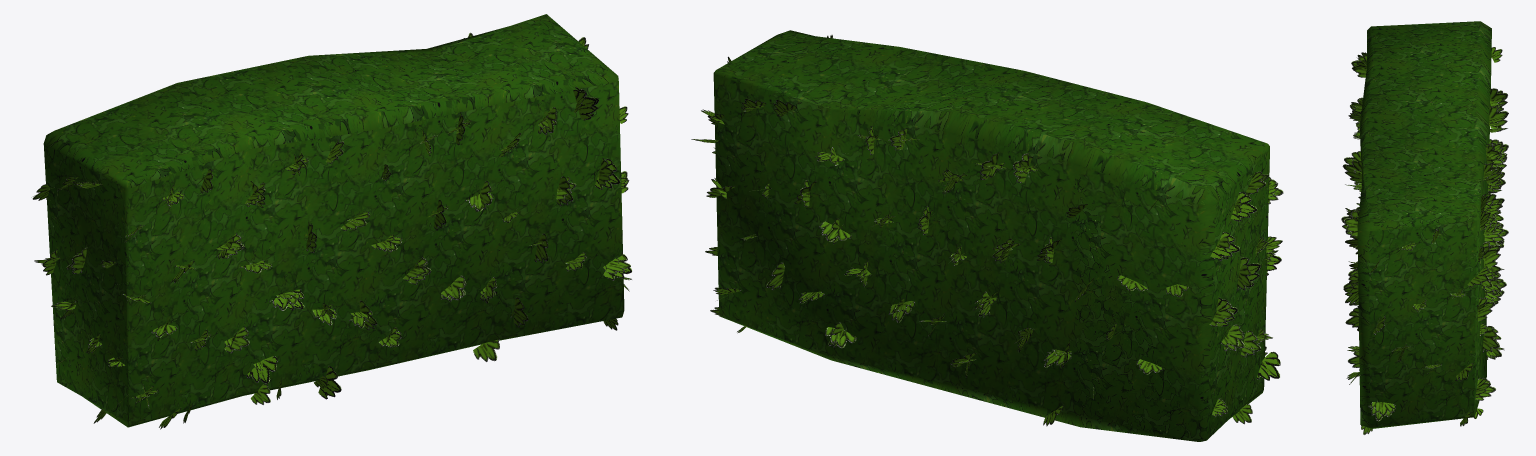
Rendered from SM_Hedge_2.fbx.
3 renders of one model, left to right at view 1: azimuth 30°, elevation 25°; view 2: azimuth 150°, elevation 25°; view 3: azimuth 270°, elevation 25°, orthographic. The views are drawn at different scales.
Parts seen in each view (by area): view 1: SM_Hedge_2; view 2: SM_Hedge_2; view 3: SM_Hedge_2, SM_Hedge_2|Plane|Dupli|121, SM_Hedge_2|Plane|Dupli|192, SM_Hedge_2|Plane|Dupli|233, SM_Hedge_2|Plane|Dupli|128, SM_Hedge_2|Plane|Dupli|127, SM_Hedge_2|Plane|Dupli|100, SM_Hedge_2|Plane|Dupli|83, SM_Hedge_2|Plane|Dupli|251, SM_Hedge_2|Plane|Dupli|203.
Part boxes in pixels (x1,y1,x2,y2): SM_Hedge_2: (43, 14, 624, 427); SM_Hedge_2: (713, 30, 1269, 441); SM_Hedge_2: (1357, 21, 1491, 428); SM_Hedge_2|Plane|Dupli|121: (1482, 326, 1499, 352); SM_Hedge_2|Plane|Dupli|192: (1489, 106, 1508, 132); SM_Hedge_2|Plane|Dupli|233: (1342, 161, 1361, 182); SM_Hedge_2|Plane|Dupli|128: (1483, 242, 1500, 267); SM_Hedge_2|Plane|Dupli|127: (1477, 297, 1494, 321); SM_Hedge_2|Plane|Dupli|100: (1371, 402, 1395, 416); SM_Hedge_2|Plane|Dupli|83: (1344, 209, 1359, 236); SM_Hedge_2|Plane|Dupli|251: (1467, 267, 1489, 287); SM_Hedge_2|Plane|Dupli|203: (1490, 88, 1507, 111).
Bounding box in the file's own units: 901 × 457 × 328.
